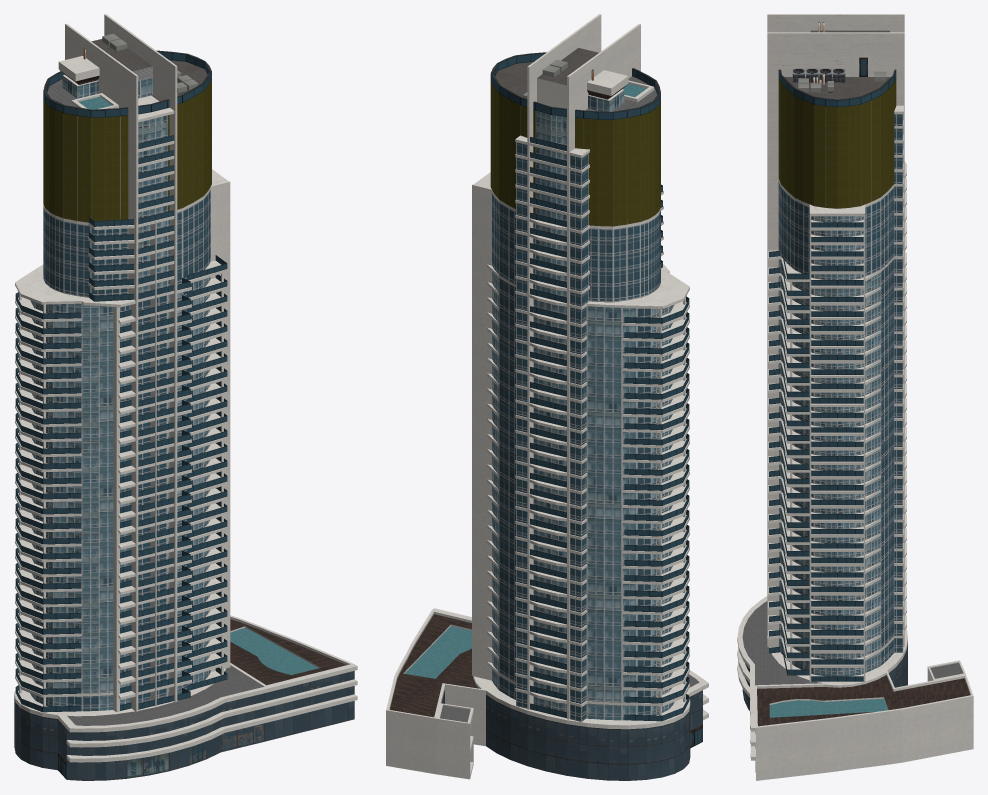
The model's file is pivotalpoint.obj.
The picture shows the model from 3 angles, left to right: view 1: azimuth 30°, elevation 25°; view 2: azimuth 150°, elevation 25°; view 3: azimuth 270°, elevation 25°; orthographic projection. The views are drawn at different scales.
Visible parts, largest first — view 1: Cylinder; view 2: Cylinder; view 3: Cylinder.
Part boxes in pixels (x1=…): Cylinder: x1=14, y1=14, x2=357, y2=780; Cylinder: x1=386, y1=14, x2=708, y2=780; Cylinder: x1=737, y1=14, x2=973, y2=780.
Size of the model in its own units: 6099 by 13800 by 4428.
